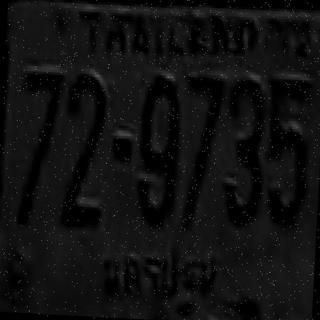N02: (61, 72, 106, 201)
N03: (220, 76, 266, 224)
N05: (262, 76, 312, 226)
N07: (180, 75, 224, 219), (18, 70, 62, 183), (19, 70, 62, 168), (183, 74, 224, 165), (20, 70, 63, 154)
N09: (135, 74, 181, 224)
P28: (94, 238, 225, 308)
